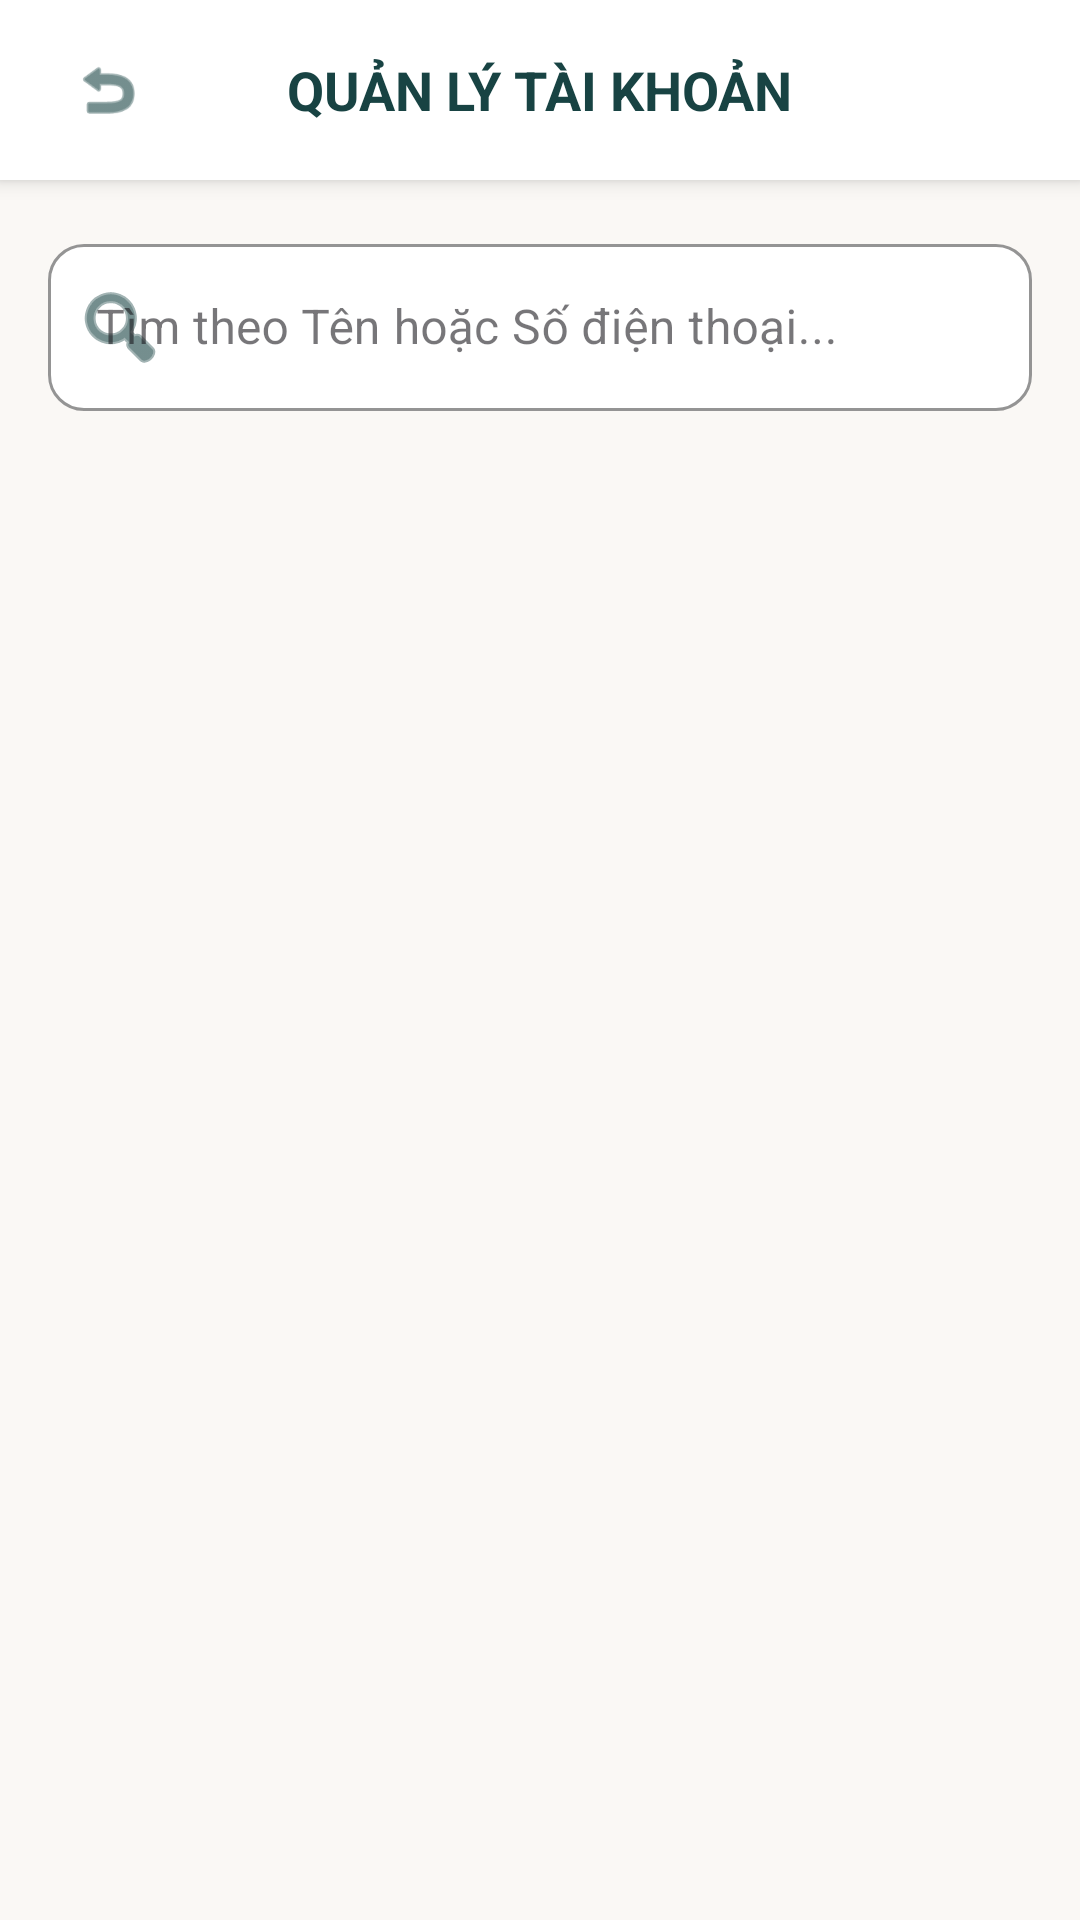

Screen size 1080x1920. Icon name, then its box in pixels as Rect(x1, y1, x2, y2):
revert: Rect(83, 67, 135, 114)
